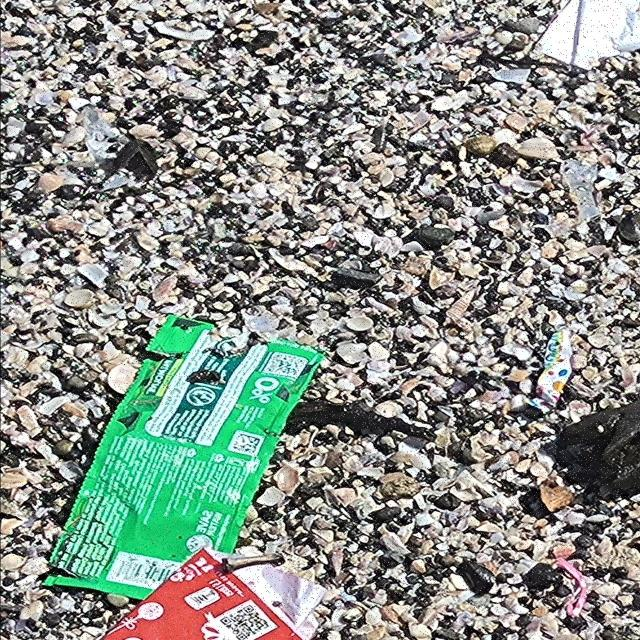plastic_waste: (41, 314, 329, 640)
